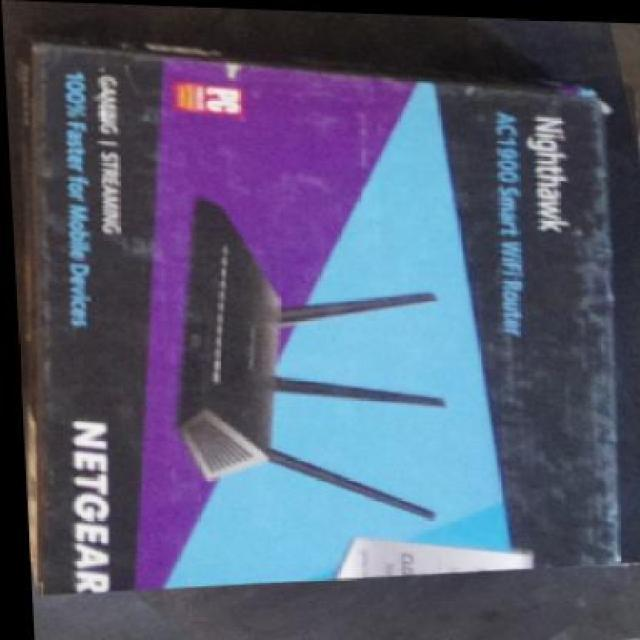box: (13, 32, 628, 613)
